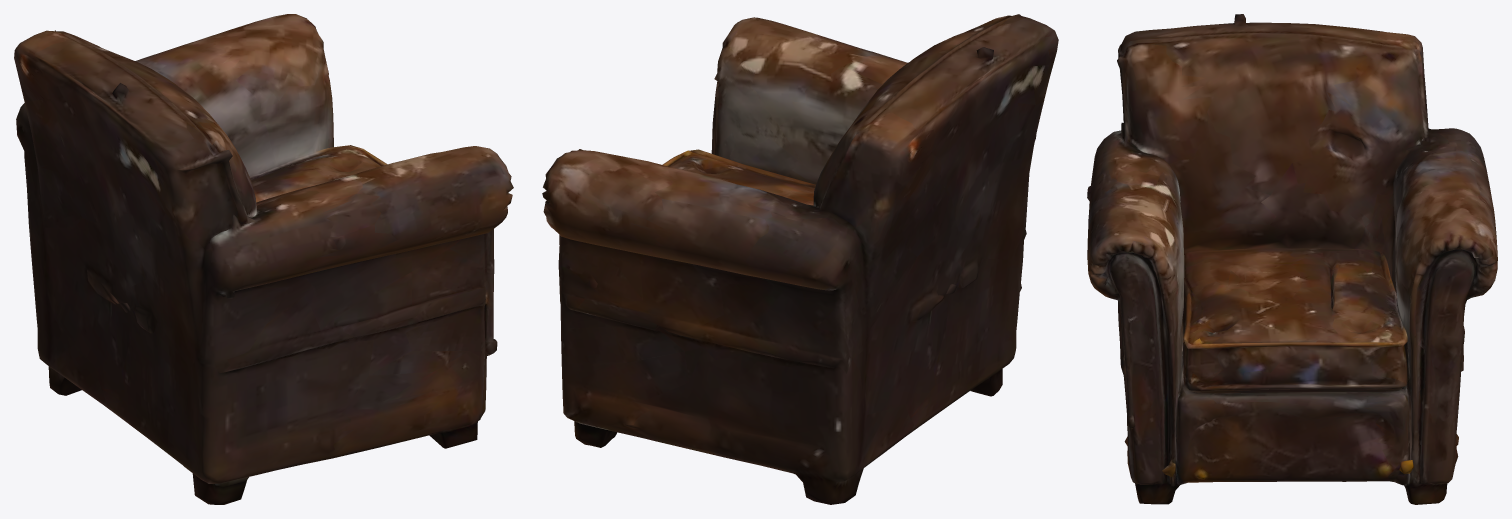
The model's file is de_armchair2.glb.
3 renders of one model, left to right at view 1: azimuth 30°, elevation 25°; view 2: azimuth 150°, elevation 25°; view 3: azimuth 270°, elevation 25°, orthographic. The views are drawn at different scales.
Visible parts, largest first — view 1: tripo_node_48b6a3f6-818f-49b9-8d86-f308b8a5020a; view 2: tripo_node_48b6a3f6-818f-49b9-8d86-f308b8a5020a; view 3: tripo_node_48b6a3f6-818f-49b9-8d86-f308b8a5020a.
Part boxes in pixels (<box>): tripo_node_48b6a3f6-818f-49b9-8d86-f308b8a5020a: <box>14,14,513,504</box>; tripo_node_48b6a3f6-818f-49b9-8d86-f308b8a5020a: <box>542,14,1058,504</box>; tripo_node_48b6a3f6-818f-49b9-8d86-f308b8a5020a: <box>1087,14,1497,504</box>.
Bounding box in the file's own units: 0.8895 × 0.9631 × 0.9999.
1 material, 1 textured.
